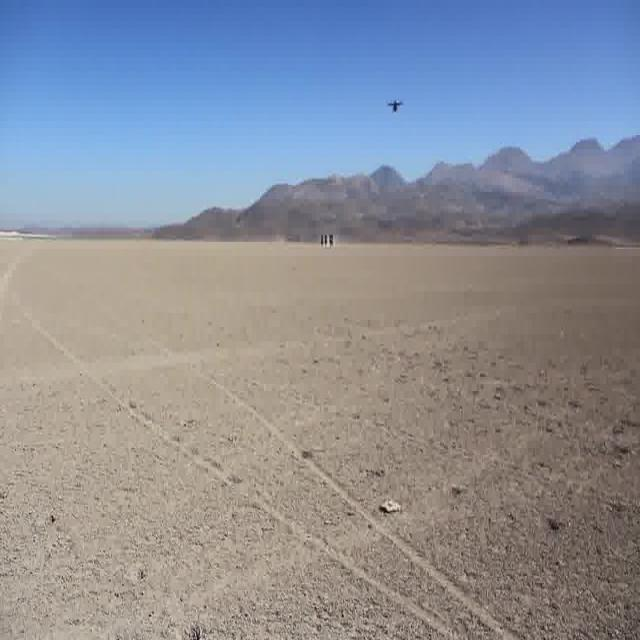drones: (381, 92, 410, 124)
